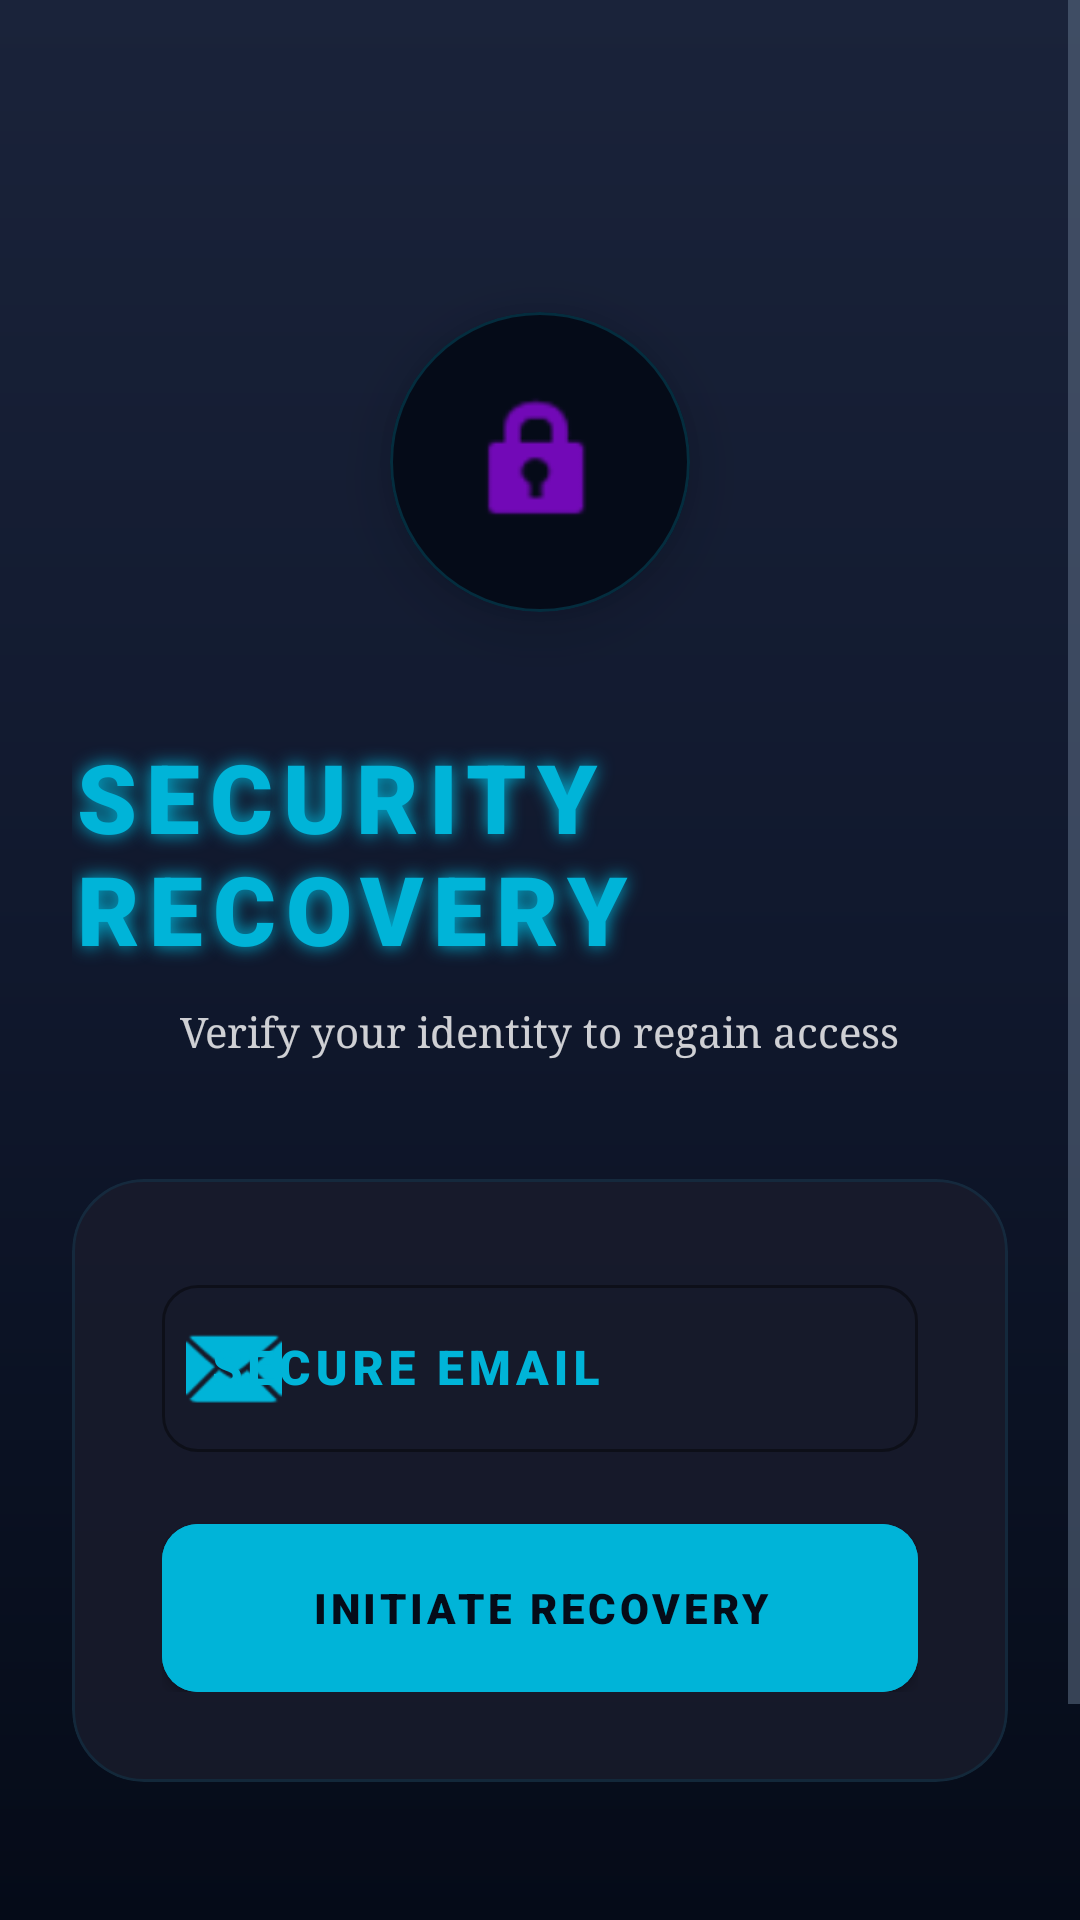

Icons on this 1080px×1920px Android screen, each with the point to tap as (x,y):
lock idle: (536,457)
